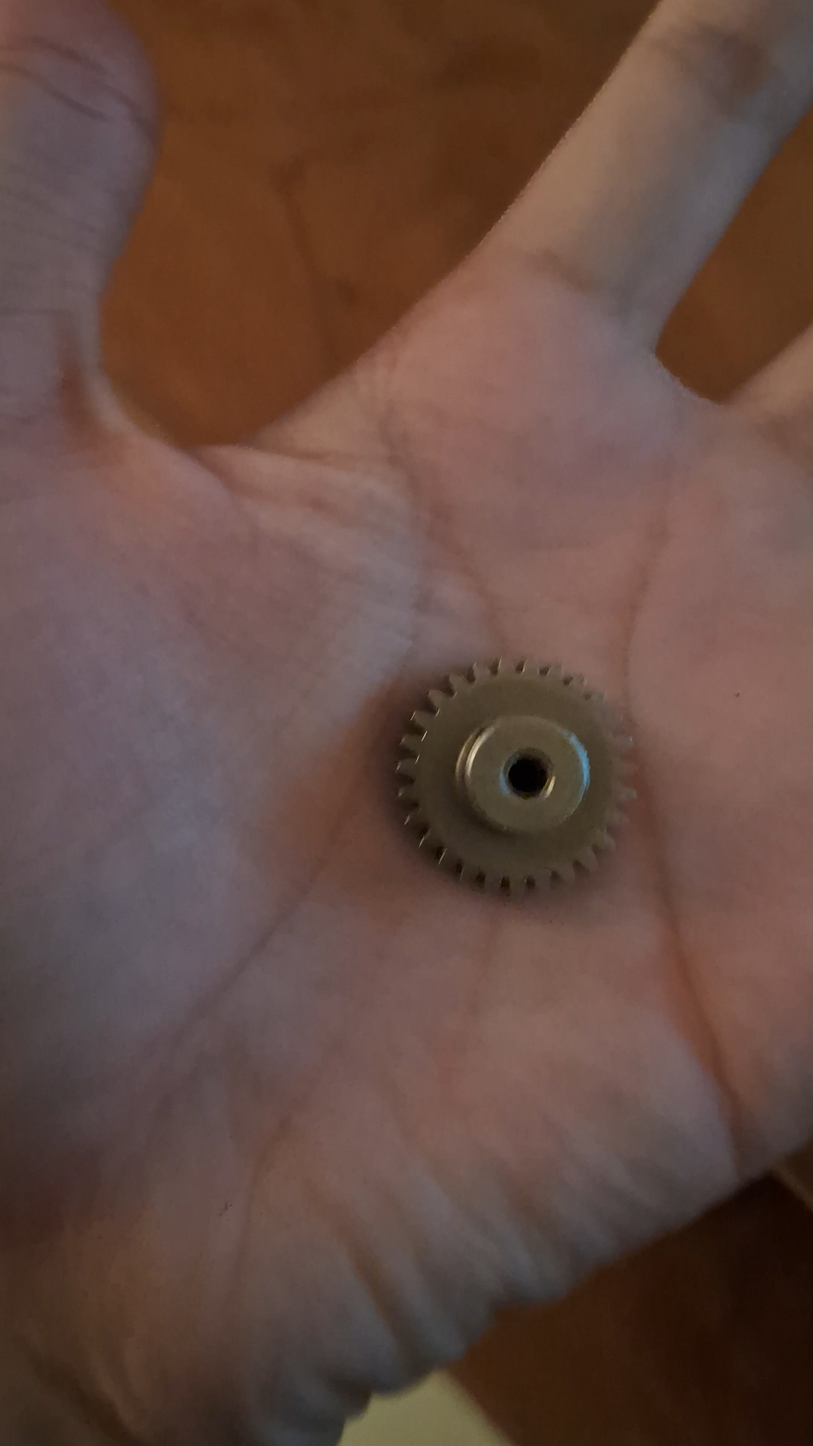spur gear: (398, 661, 634, 893)
